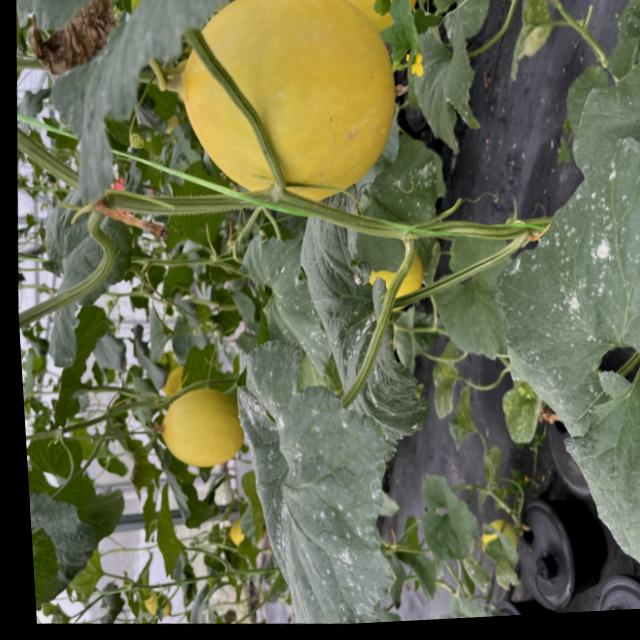bacterial wilt: (28, 0, 115, 76)
downy mildew: (500, 0, 557, 90)
healthy: (34, 181, 142, 377), (421, 228, 526, 369), (27, 447, 108, 595), (28, 467, 69, 625), (150, 478, 194, 584), (431, 585, 521, 620)
powdery mildew: (467, 118, 640, 594), (17, 0, 301, 220), (214, 325, 413, 630), (284, 179, 444, 455), (229, 227, 341, 395), (402, 8, 489, 161), (616, 0, 640, 69)
